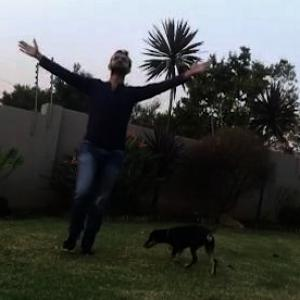takeoff: (21, 46, 196, 247)
